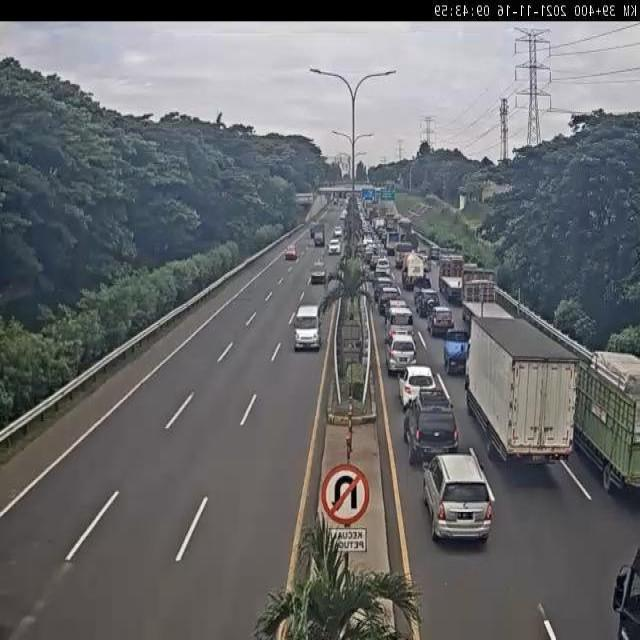Car: (421, 451, 493, 542), (404, 393, 460, 464), (398, 364, 438, 410), (292, 304, 322, 352), (385, 333, 417, 375), (442, 327, 470, 374), (428, 306, 454, 338), (386, 305, 413, 332), (415, 288, 440, 317), (378, 286, 401, 317), (350, 197, 368, 225), (310, 262, 327, 284), (375, 258, 390, 275), (284, 244, 298, 261), (328, 238, 341, 255), (368, 252, 379, 270), (362, 236, 373, 251), (429, 246, 440, 261), (340, 209, 348, 222), (334, 226, 342, 237), (334, 198, 338, 206)
Truck: (465, 314, 578, 469), (569, 318, 640, 486), (462, 265, 496, 307), (438, 256, 465, 296), (398, 218, 413, 244), (384, 214, 396, 234), (364, 268, 376, 286), (360, 279, 370, 298), (355, 241, 366, 258), (367, 205, 378, 222), (376, 224, 386, 241), (347, 192, 357, 205), (310, 229, 318, 243), (423, 258, 430, 271), (311, 192, 318, 201), (321, 191, 328, 199)
